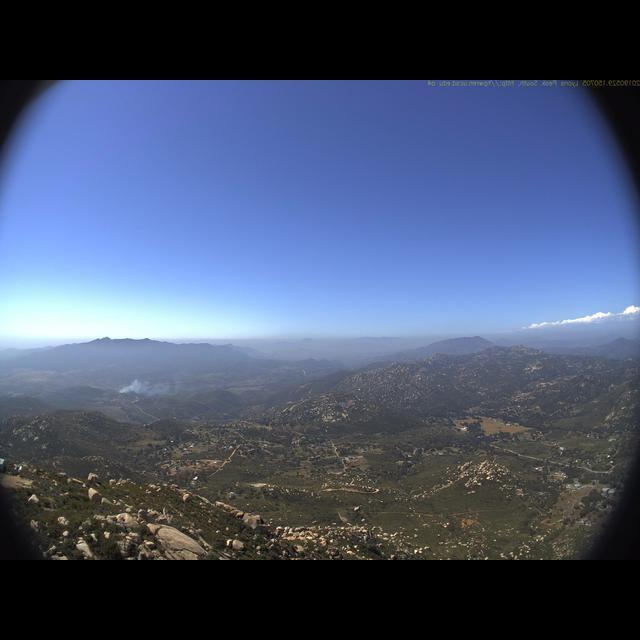Smoke: (116, 373, 178, 397)
